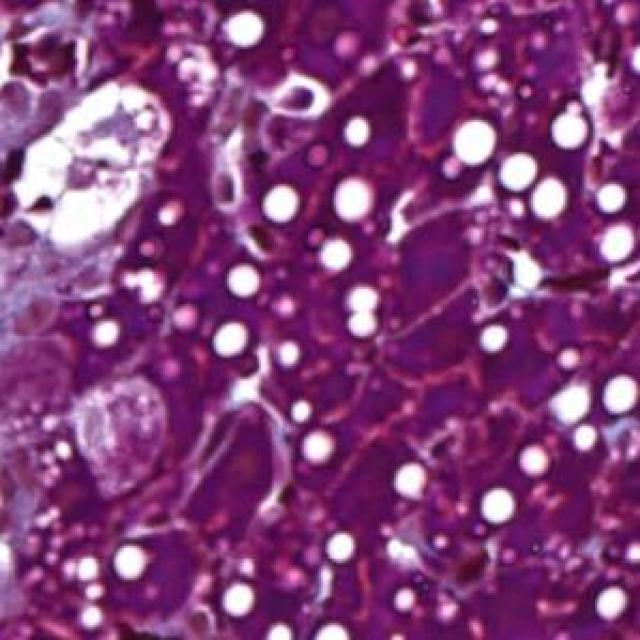ballooning: (13, 77, 175, 259)
